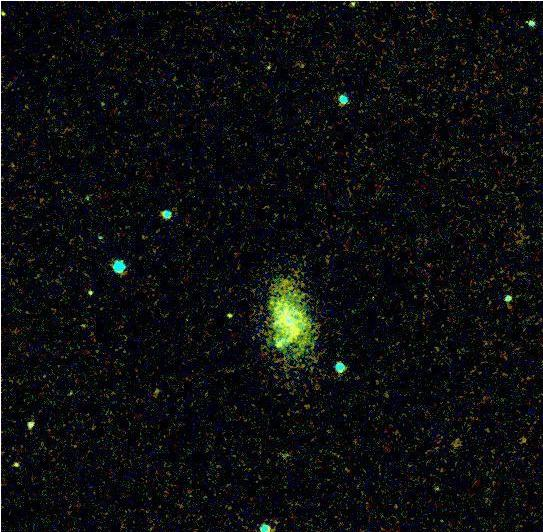star: (263, 328, 293, 358)
